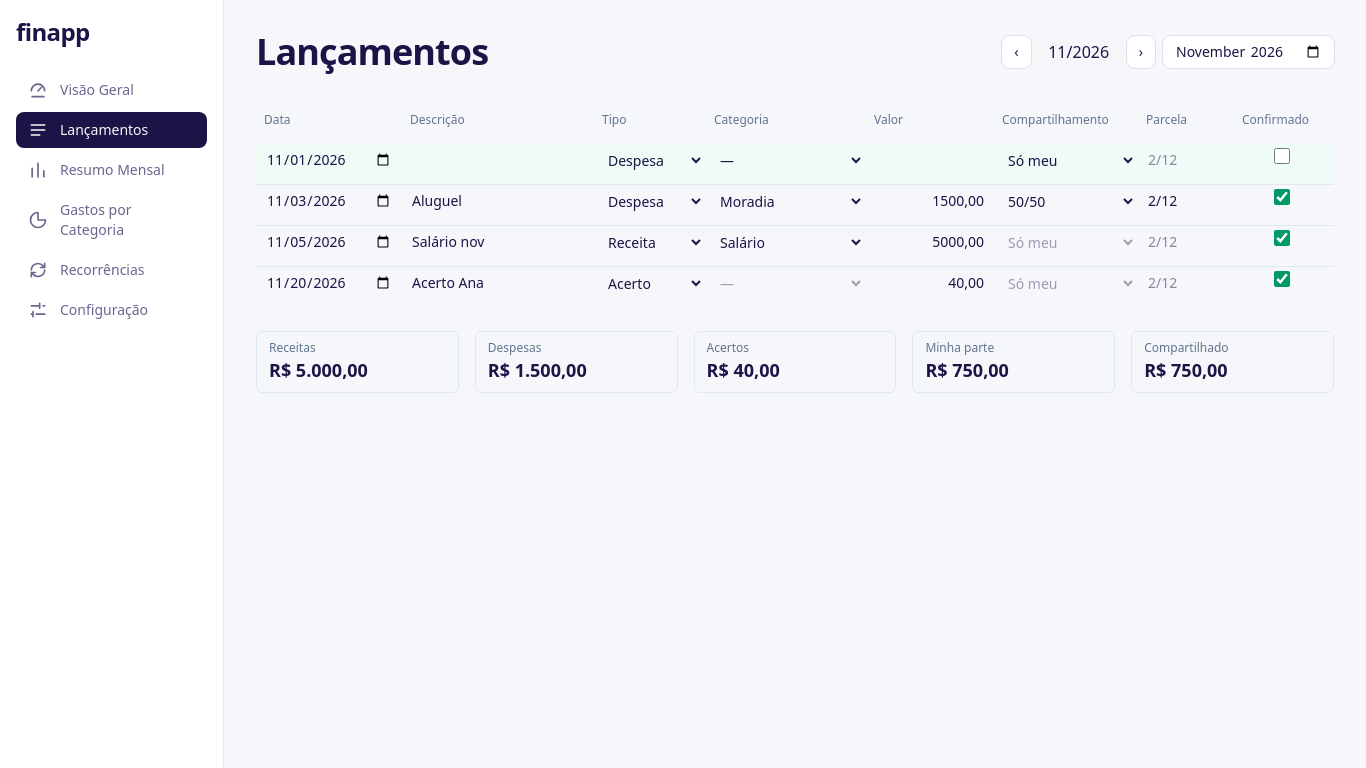
Editing a row in place › saves a changed date and moves the row out of the month
The image size is (1366, 768).
Expected: the heading "Lançamentos" is shown, [256, 32, 488, 72]
Type "2026-12-02" into the 2nd date field named "Data". click: (329, 201)
box: [258, 187, 400, 215]
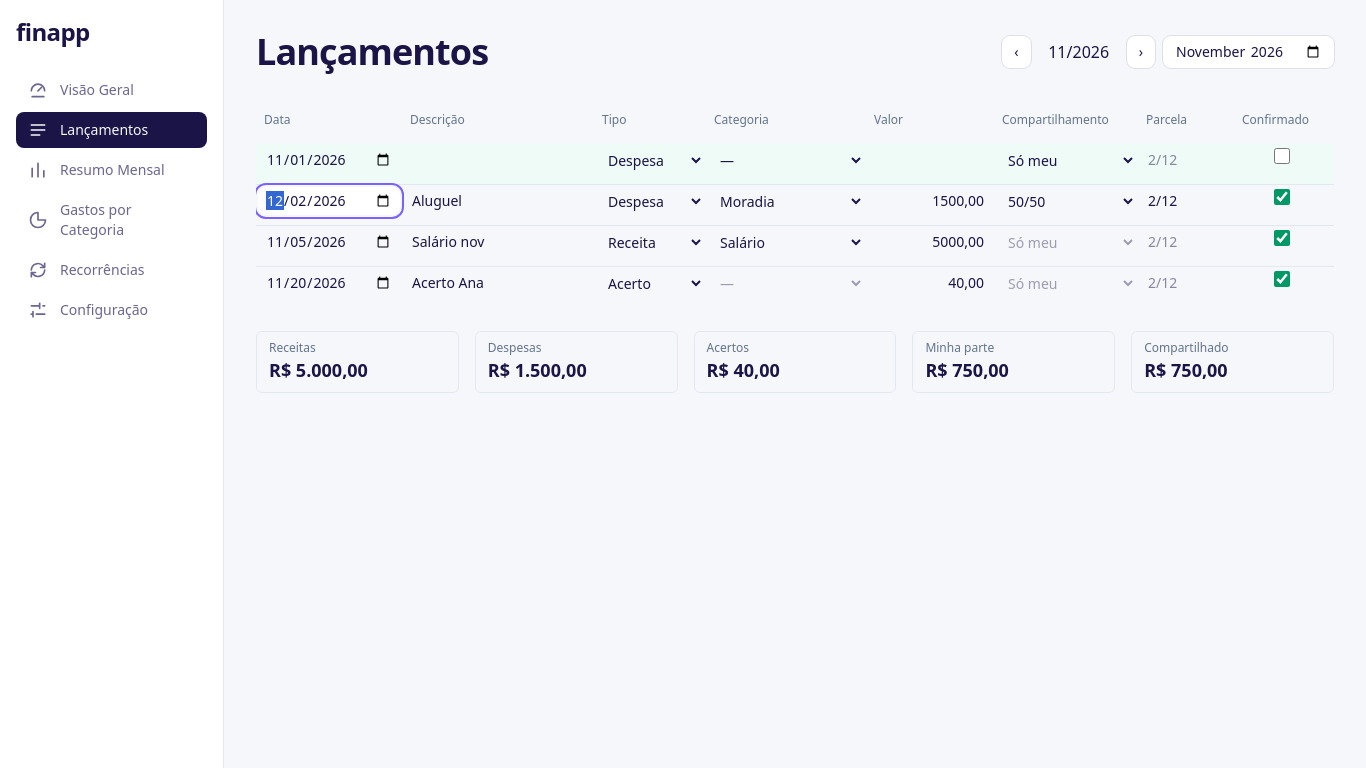
Press Tab
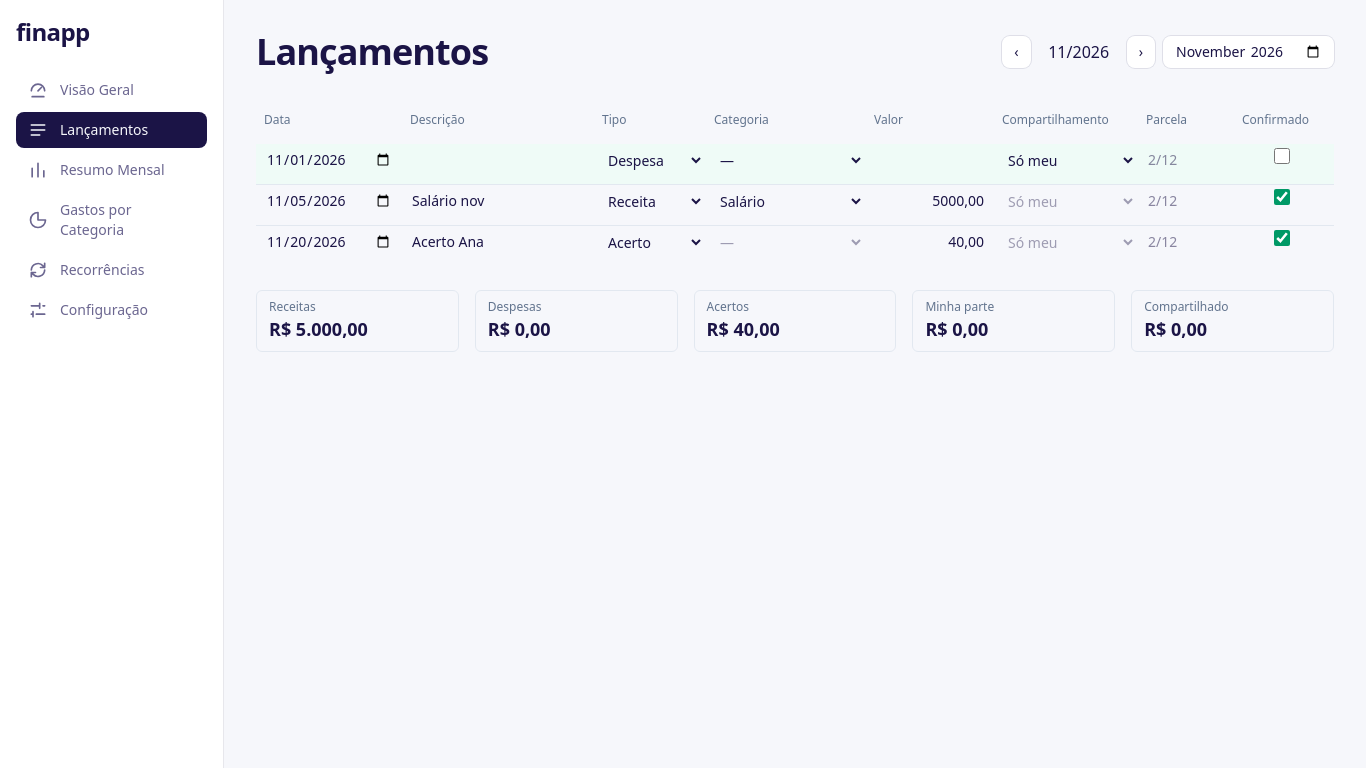
Result: the field labelled "Aluguel" is gone
